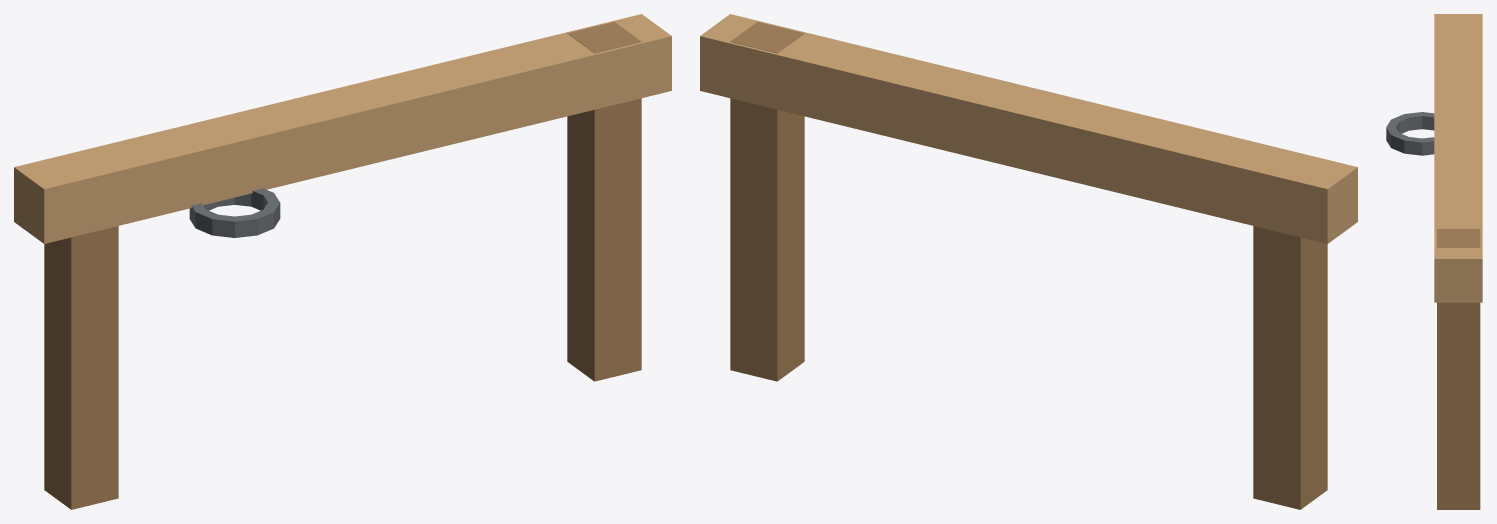
The model's file is hitching-post.glb.
The picture shows the model from 3 angles, left to right: view 1: azimuth 30°, elevation 25°; view 2: azimuth 150°, elevation 25°; view 3: azimuth 270°, elevation 25°; orthographic projection. The views are drawn at different scales.
Visible parts, largest first — view 1: hitching-post; view 2: hitching-post; view 3: hitching-post.
Part boxes in pixels (x1,y1,x2,y2): hitching-post: (14,14,671,509); hitching-post: (700,14,1357,509); hitching-post: (1386,14,1482,509).
Size of the model in its own units: 2.4 by 1.2 by 0.4001.
